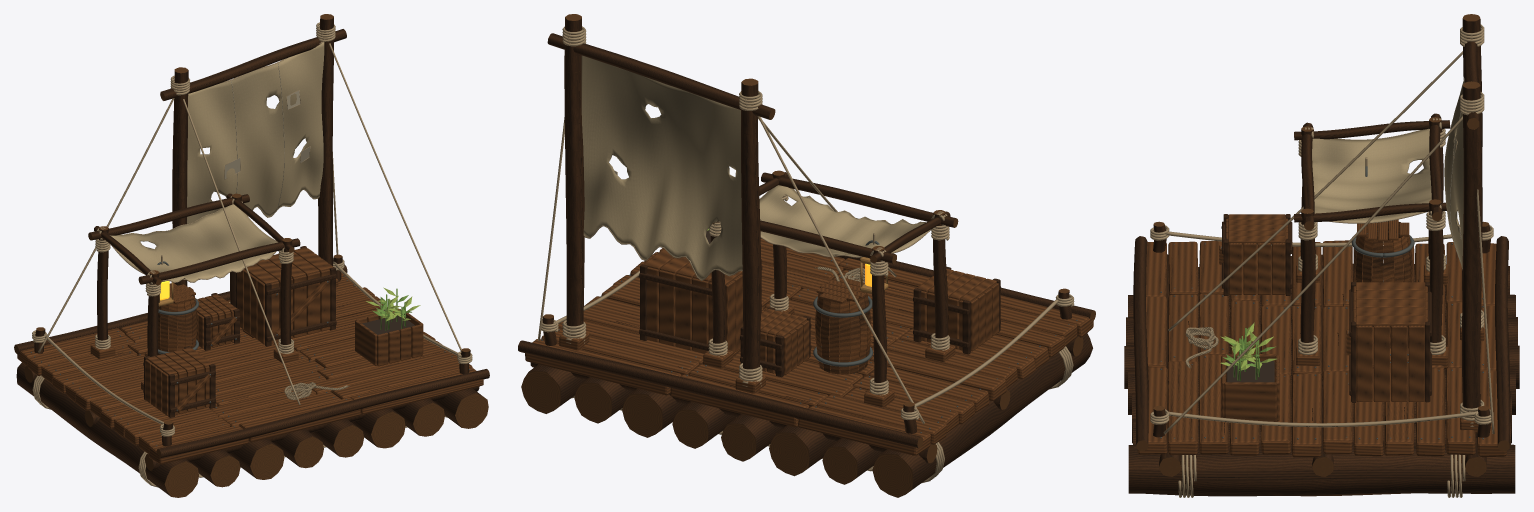
Rendered from raft.glb.
3 views of the same model, side by side, from view 1: azimuth 30°, elevation 25°; view 2: azimuth 150°, elevation 25°; view 3: azimuth 270°, elevation 25° (orthographic). The views are drawn at different scales.
Visible parts, largest first — view 1: GEO-Deck.001, GEO-Rig.001, GEO-MainSail.001, GEO-StorageChest.001, GEO-Cargo.001, GEO-ShelterCanvas.001, GEO-SupplyCrate.001, GEO-SmallCrate.001; view 2: GEO-Deck.001, GEO-Rig.001, GEO-MainSail.001, GEO-StorageChest.001, GEO-ShelterCanvas.001, GEO-Cargo.001, GEO-SupplyCrate.001, GEO-SmallCrate.001; view 3: GEO-Deck.001, GEO-Rig.001, GEO-StorageChest.001, GEO-Cargo.001, GEO-ShelterCanvas.001, GEO-SupplyCrate.001, GEO-MainSail.001.
Part boxes in pixels (x1=…): GEO-Deck.001: x1=14, y1=264, x2=489, y2=497; GEO-Rig.001: x1=32, y1=14, x2=472, y2=487; GEO-MainSail.001: x1=187, y1=41, x2=324, y2=223; GEO-StorageChest.001: x1=235, y1=246, x2=336, y2=346; GEO-Cargo.001: x1=158, y1=283, x2=423, y2=400; GEO-ShelterCanvas.001: x1=110, y1=204, x2=277, y2=282; GEO-SupplyCrate.001: x1=143, y1=346, x2=215, y2=417; GEO-SmallCrate.001: x1=196, y1=293, x2=240, y2=350; GEO-Deck.001: x1=518, y1=238, x2=1095, y2=497; GEO-Rig.001: x1=537, y1=14, x2=1074, y2=482; GEO-MainSail.001: x1=581, y1=55, x2=742, y2=280; GEO-StorageChest.001: x1=639, y1=249, x2=762, y2=353; GEO-ShelterCanvas.001: x1=759, y1=185, x2=931, y2=257; GEO-Cargo.001: x1=706, y1=228, x2=873, y2=374; GEO-SupplyCrate.001: x1=913, y1=266, x2=1000, y2=354; GEO-SmallCrate.001: x1=740, y1=307, x2=811, y2=377; GEO-Deck.001: x1=1124, y1=236, x2=1519, y2=496; GEO-Rig.001: x1=1150, y1=14, x2=1494, y2=497; GEO-StorageChest.001: x1=1346, y1=282, x2=1431, y2=402; GEO-Cargo.001: x1=1185, y1=219, x2=1414, y2=422; GEO-ShelterCanvas.001: x1=1312, y1=128, x2=1431, y2=223; GEO-SupplyCrate.001: x1=1219, y1=214, x2=1292, y2=295; GEO-MainSail.001: x1=1444, y1=78, x2=1464, y2=269.
Size of the model in its own units: 5.22 by 4.81 by 4.26.
15 materials, 4 textured.
